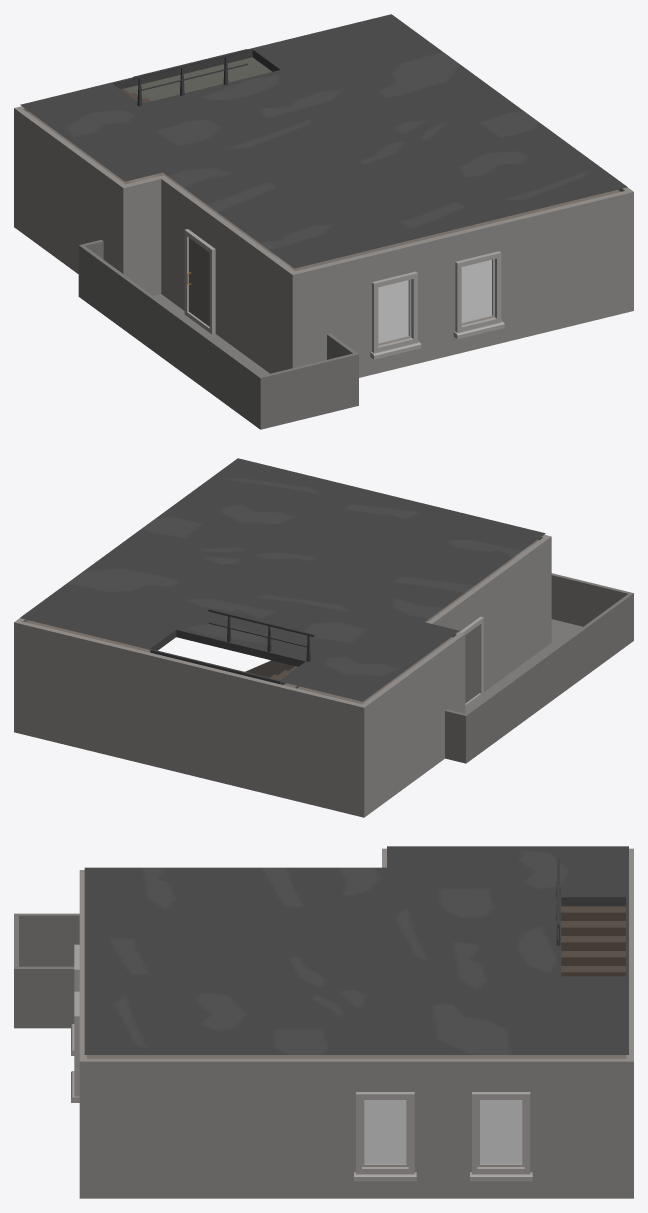
File: SM_Bldg_City_Commercial_09_Mid.fbx
3 renders of one model, top to bottom at view 1: azimuth 30°, elevation 25°; view 2: azimuth 150°, elevation 25°; view 3: azimuth 270°, elevation 25°, orthographic. The views are drawn at different scales.
Visible parts, largest first — view 1: SM_Bldg_City_Commercial_09_Mid, SM_Bldg_City_Commercial_09_Mid_Glass, SM_Bldg_City_Commercial_09_Mid_Door; view 2: SM_Bldg_City_Commercial_09_Mid, SM_Bldg_City_Commercial_09_Mid_Door; view 3: SM_Bldg_City_Commercial_09_Mid, SM_Bldg_City_Commercial_09_Mid_Glass.
Part boxes in pixels (left/top/right/bottom): SM_Bldg_City_Commercial_09_Mid: left=14, top=14, right=633, bottom=429; SM_Bldg_City_Commercial_09_Mid_Glass: left=378, top=260, right=491, bottom=342; SM_Bldg_City_Commercial_09_Mid_Door: left=187, top=238, right=209, bottom=326; SM_Bldg_City_Commercial_09_Mid: left=14, top=458, right=633, bottom=817; SM_Bldg_City_Commercial_09_Mid_Door: left=465, top=625, right=479, bottom=703; SM_Bldg_City_Commercial_09_Mid: left=14, top=846, right=633, bottom=1198; SM_Bldg_City_Commercial_09_Mid_Glass: left=364, top=1100, right=522, bottom=1163.
Bounding box in the file's own units: 1077 × 385 × 1230.
